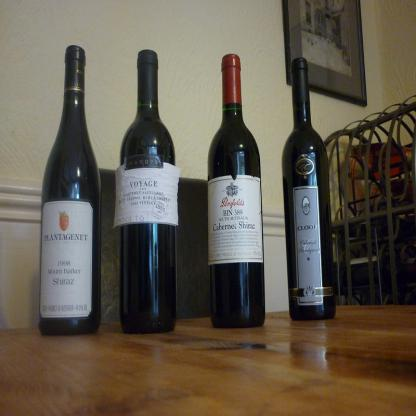drinking: (112, 50, 181, 335), (38, 45, 102, 336), (207, 53, 264, 329), (282, 58, 336, 320)
